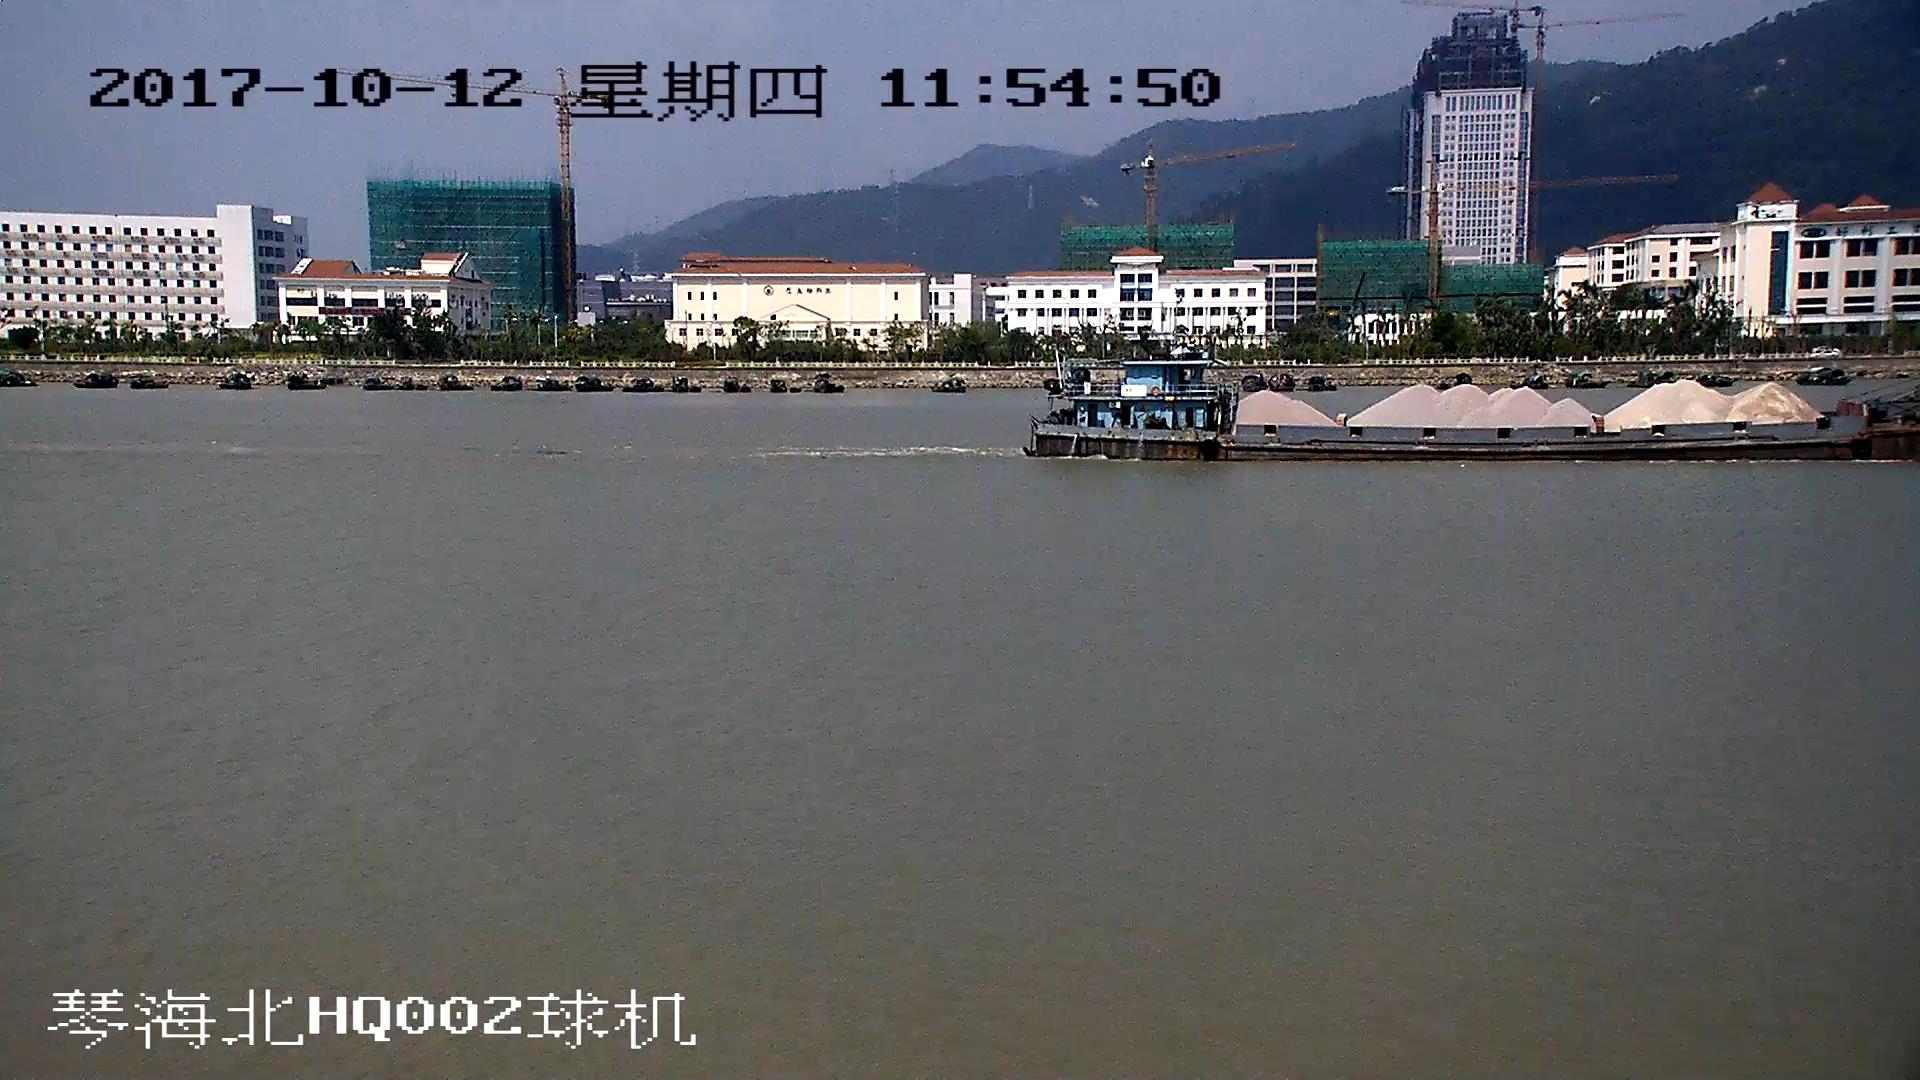ore carrier: (1027, 358, 1920, 462)
